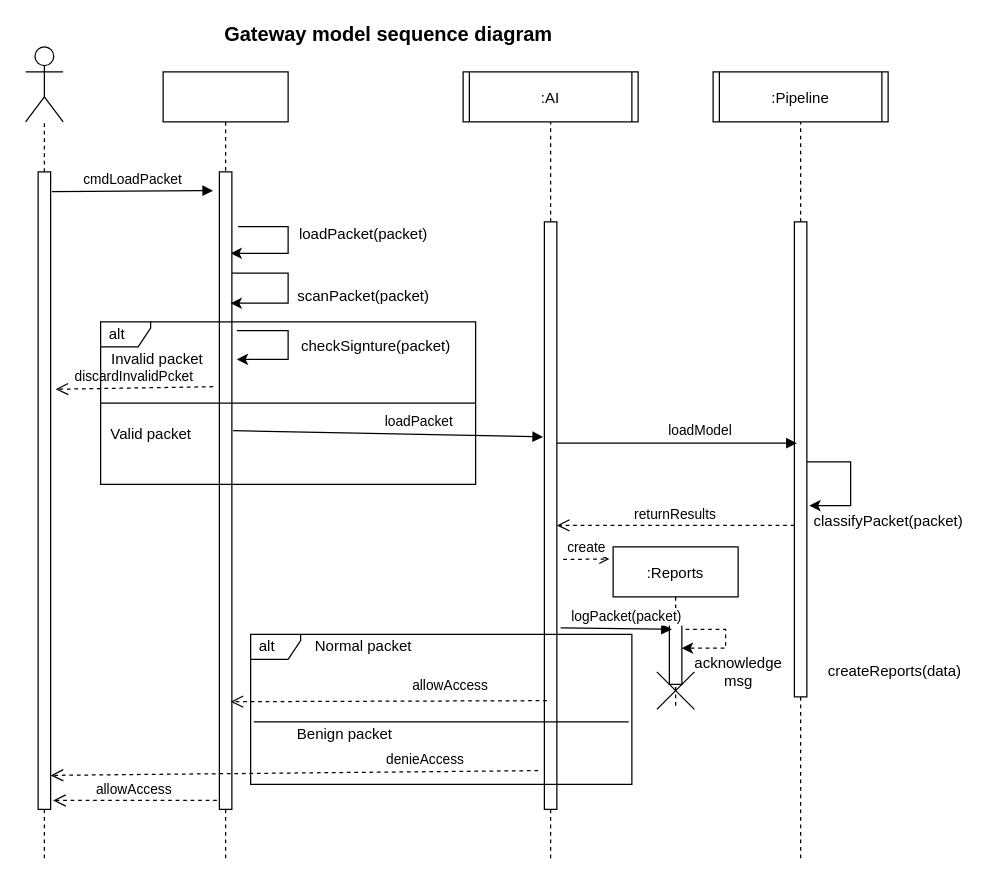
The diagram is 998 pixels wide and 883 high, and some of its shapes have lost their labels. Here are the shapes that lost their labels. From the top down, the box of each, then its label:
(24, 46, 63, 122): Packet
(162, 71, 288, 809): :Gateway
